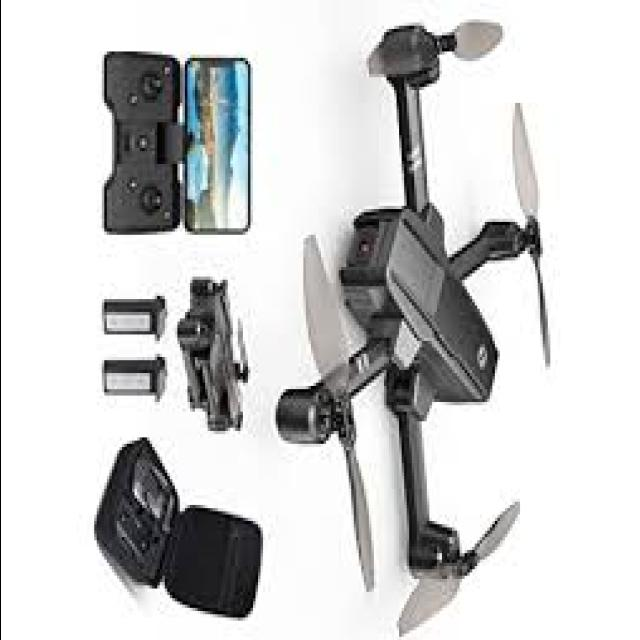drone: (274, 0, 578, 640)
